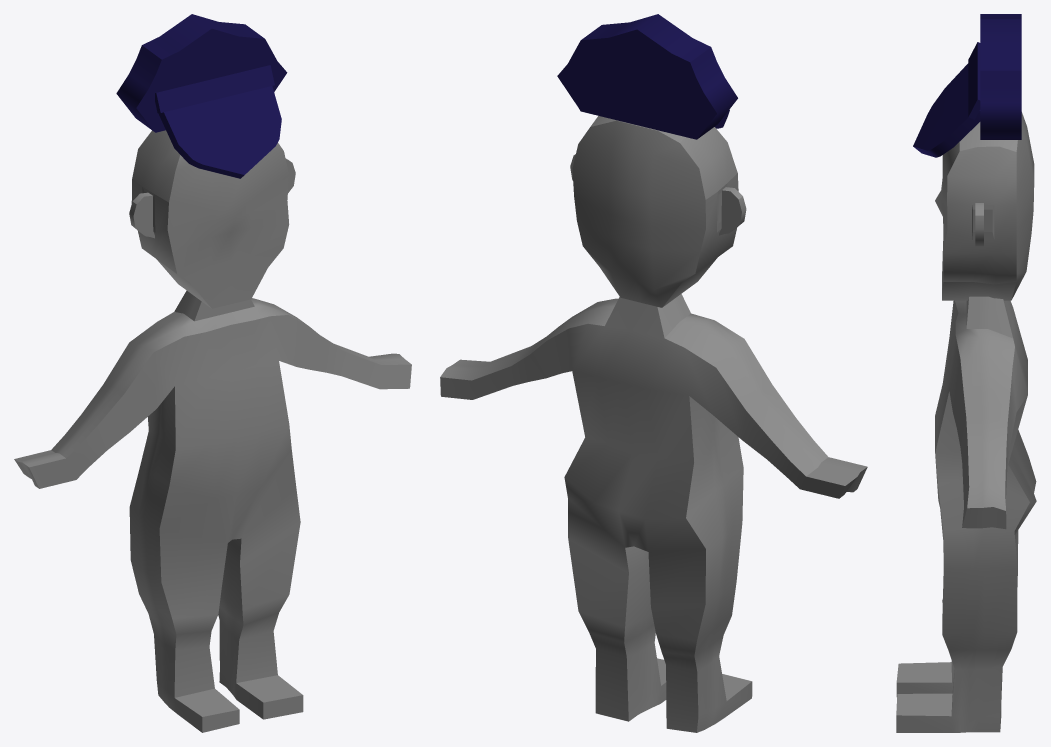
File: personaje.fbx
The picture shows the model from 3 angles, left to right: view 1: azimuth 30°, elevation 25°; view 2: azimuth 150°, elevation 25°; view 3: azimuth 270°, elevation 25°; orthographic projection. The views are drawn at different scales.
Visible parts, largest first — view 1: pCube11; view 2: pCube11; view 3: pCube11.
Part boxes in pixels (box(x1,y1,x2,y2)): pCube11: box(14, 14, 411, 732); pCube11: box(440, 14, 867, 732); pCube11: box(896, 14, 1036, 732).
Bounding box in the file's own units: 4.74 × 7.84 × 1.45.
